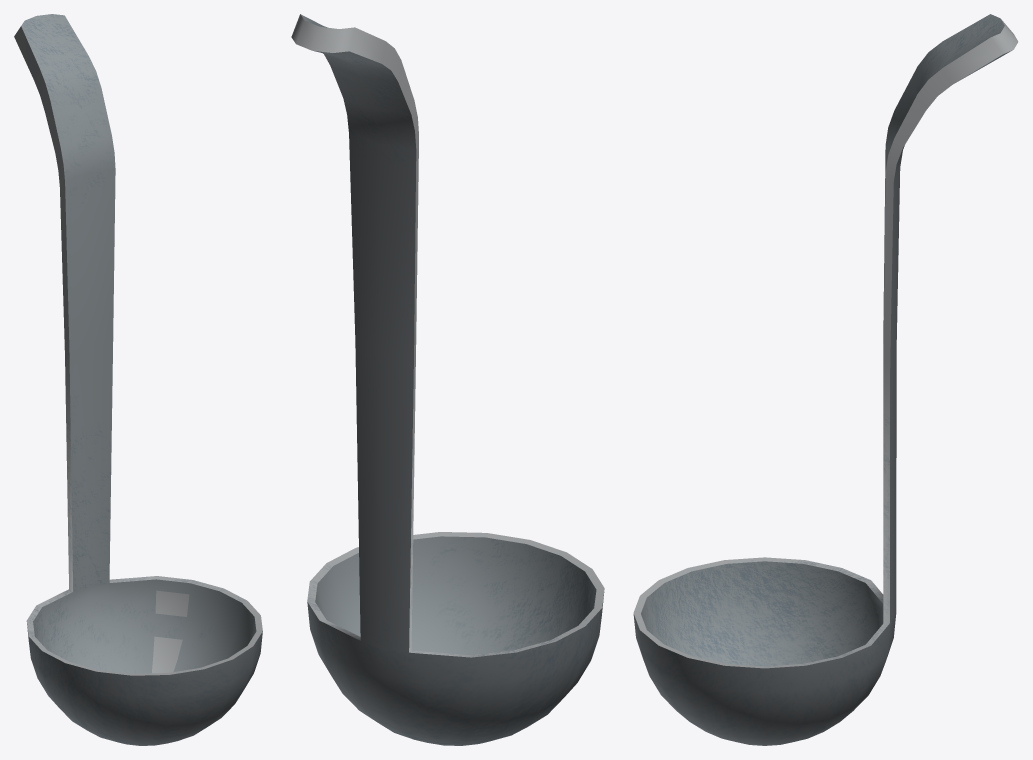
3 views of the same model, side by side, from view 1: azimuth 30°, elevation 25°; view 2: azimuth 150°, elevation 25°; view 3: azimuth 270°, elevation 25° (orthographic). The views are drawn at different scales.
Visible parts, largest first — view 1: 국자; view 2: 국자; view 3: 국자.
Part boxes in pixels (<box>): 국자: <box>14,14,262,745</box>; 국자: <box>291,14,604,745</box>; 국자: <box>633,14,1018,745</box>.
Size of the model in its own units: 177 by 526 by 259.
1 material, 1 textured.
